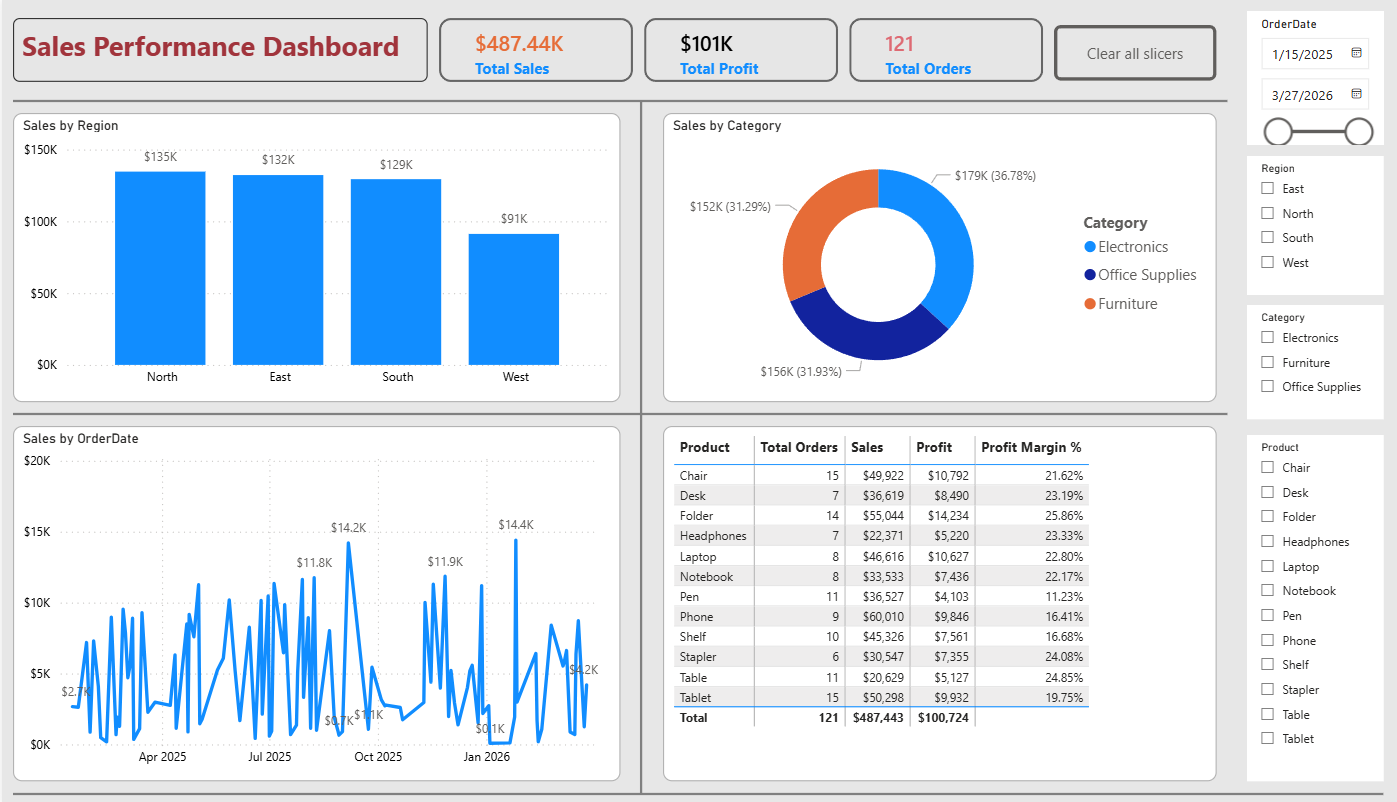

This screenshot's page, from the dashboard's own definition file:
{"tool":"powerbi","page":{"name":"Sales Dashboard","canvas":[1280,720],"ordinal":2},"visuals":[{"type":"shape","box":[9.7,359.9,1083.5,21.4],"z":0},{"type":"shape","box":[9.7,698.4,1083.5,21.4],"z":1000},{"type":"cardVisual","fields":{"Data":["Sum(Sales.Sales)","Sum(Sales.Profit)","CountNonNull(Sales.OrderID)"]},"box":[372.5,0,575.8,91.4],"z":2000},{"type":"shape","box":[9.7,80.7,1083.5,21.4],"z":3000},{"type":"shape","box":[551.5,91.4,12.6,606.9],"z":4000},{"type":"slicer","fields":{"Values":["Sales.OrderDate"]},"box":[1110.8,10.7,121.6,120.6],"z":5000,"group":"g1"},{"type":"slicer","fields":{"Values":["Sales.Region"]},"box":[1110.8,142,121.6,125.5],"z":6000,"group":"g1"},{"type":"slicer","fields":{"Values":["Sales.Product"]},"box":[1110.8,394.9,121.6,314.2],"z":7000,"group":"g1"},{"type":"slicer","fields":{"Values":["Sales.Category"]},"box":[1110.8,277.2,121.6,104.1],"z":8000,"group":"g1"},{"type":"textbox","box":[9.7,5.8,362.8,55.4],"z":9000},{"type":"actionButton","box":[938.6,23.3,144.9,49.6],"z":9001},{"type":"clusteredColumnChart","title":"Sales by Region","fields":{"Category":["Sales.Region"],"Y":["Sum(Sales.Sales)"]},"box":[9.7,102.1,532,257.8],"z":9002},{"type":"donutChart","title":"Sales by Category","fields":{"Category":["Sales.Category"],"Y":["Sum(Sales.Sales)"]},"box":[564.1,102.1,519.4,257.8],"z":9003},{"type":"lineChart","title":"Sales by OrderDate","fields":{"Y":["Sum(Sales.Sales)"],"Category":["Sales.OrderDate"]},"box":[10,381,541,317],"z":9004},{"type":"tableEx","title":"Sales Summary:","fields":{"Values":["Sales.Product","CountNonNull(Sales.OrderID)","Sum(Sales.Sales)","Sum(Sales.Profit)","Sales.Profit Margin %"]},"box":[564.1,381.3,519.4,317.1],"z":9005},{"type":"group","id":"g1","title":"Group 1","box":[1110.8,10.7,121.6,698.4],"z":9006}]}

Visuals, with their boxes in screenshot pixels (x1, y1, x2, y2), scaled from the page's 1280x720 canvas onto the 1397x802 screenshot:
shape: crop(11, 401, 1193, 425)
shape: crop(11, 778, 1193, 801)
cardVisual - Sum(Sales.Sales) x Sum(Sales.Profit): crop(407, 0, 1035, 102)
shape: crop(11, 90, 1193, 114)
shape: crop(602, 102, 616, 778)
slicer - Sales.OrderDate: crop(1212, 12, 1345, 146)
slicer - Sales.Region: crop(1212, 158, 1345, 298)
slicer - Sales.Product: crop(1212, 440, 1345, 790)
slicer - Sales.Category: crop(1212, 309, 1345, 425)
textbox: crop(11, 6, 407, 68)
actionButton: crop(1024, 26, 1183, 81)
"Sales by Region" clusteredColumnChart: crop(11, 114, 591, 401)
"Sales by Category" donutChart: crop(616, 114, 1183, 401)
"Sales by OrderDate" lineChart: crop(11, 424, 601, 777)
"Sales Summary:" tableEx: crop(616, 425, 1183, 778)
"Group 1" group: crop(1212, 12, 1345, 790)
